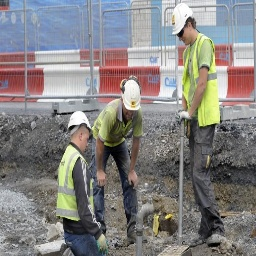helmet: (120, 70, 143, 113), (170, 3, 194, 39), (66, 109, 96, 132)
person: (172, 4, 231, 246), (93, 69, 143, 256), (59, 109, 104, 256)
vest: (177, 36, 224, 130), (58, 139, 95, 227), (99, 100, 143, 151)
